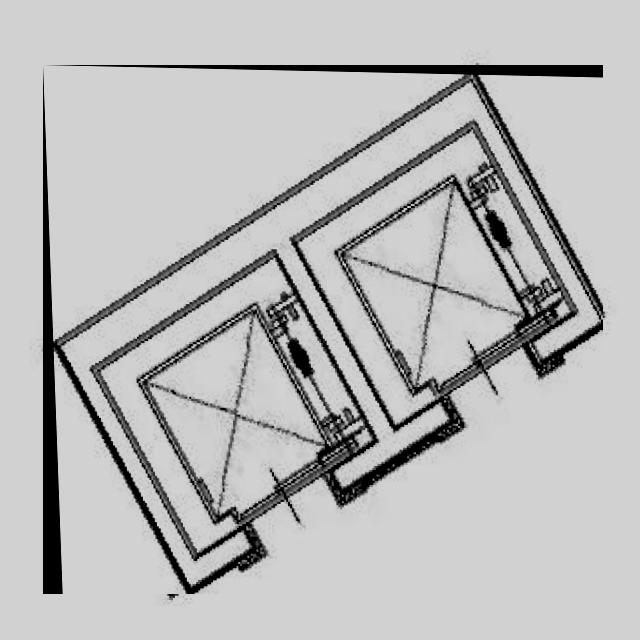lift: (43, 65, 603, 594)
